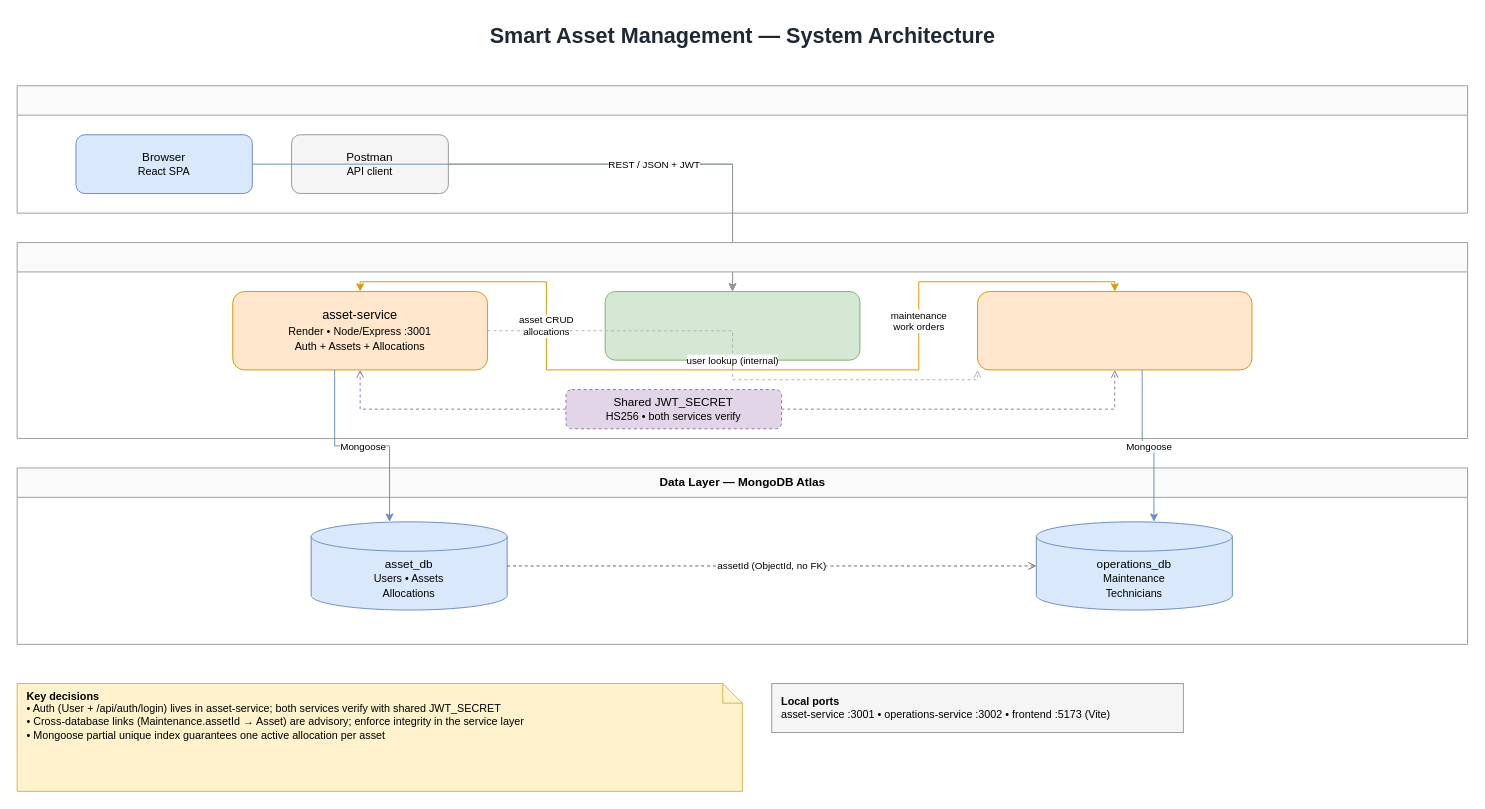
This 1485x809 diagram has some shape labels left out. Each missing label, with the box of its shape:
Application Layer: (16, 242, 1468, 439)
Client Layer: (16, 85, 1468, 213)
frontend" Vercel • React SPA UI only, no secrets: (604, 291, 860, 360)
operations-service Render • Node/Express :3002 Maintenance + Technicians: (977, 291, 1252, 370)
